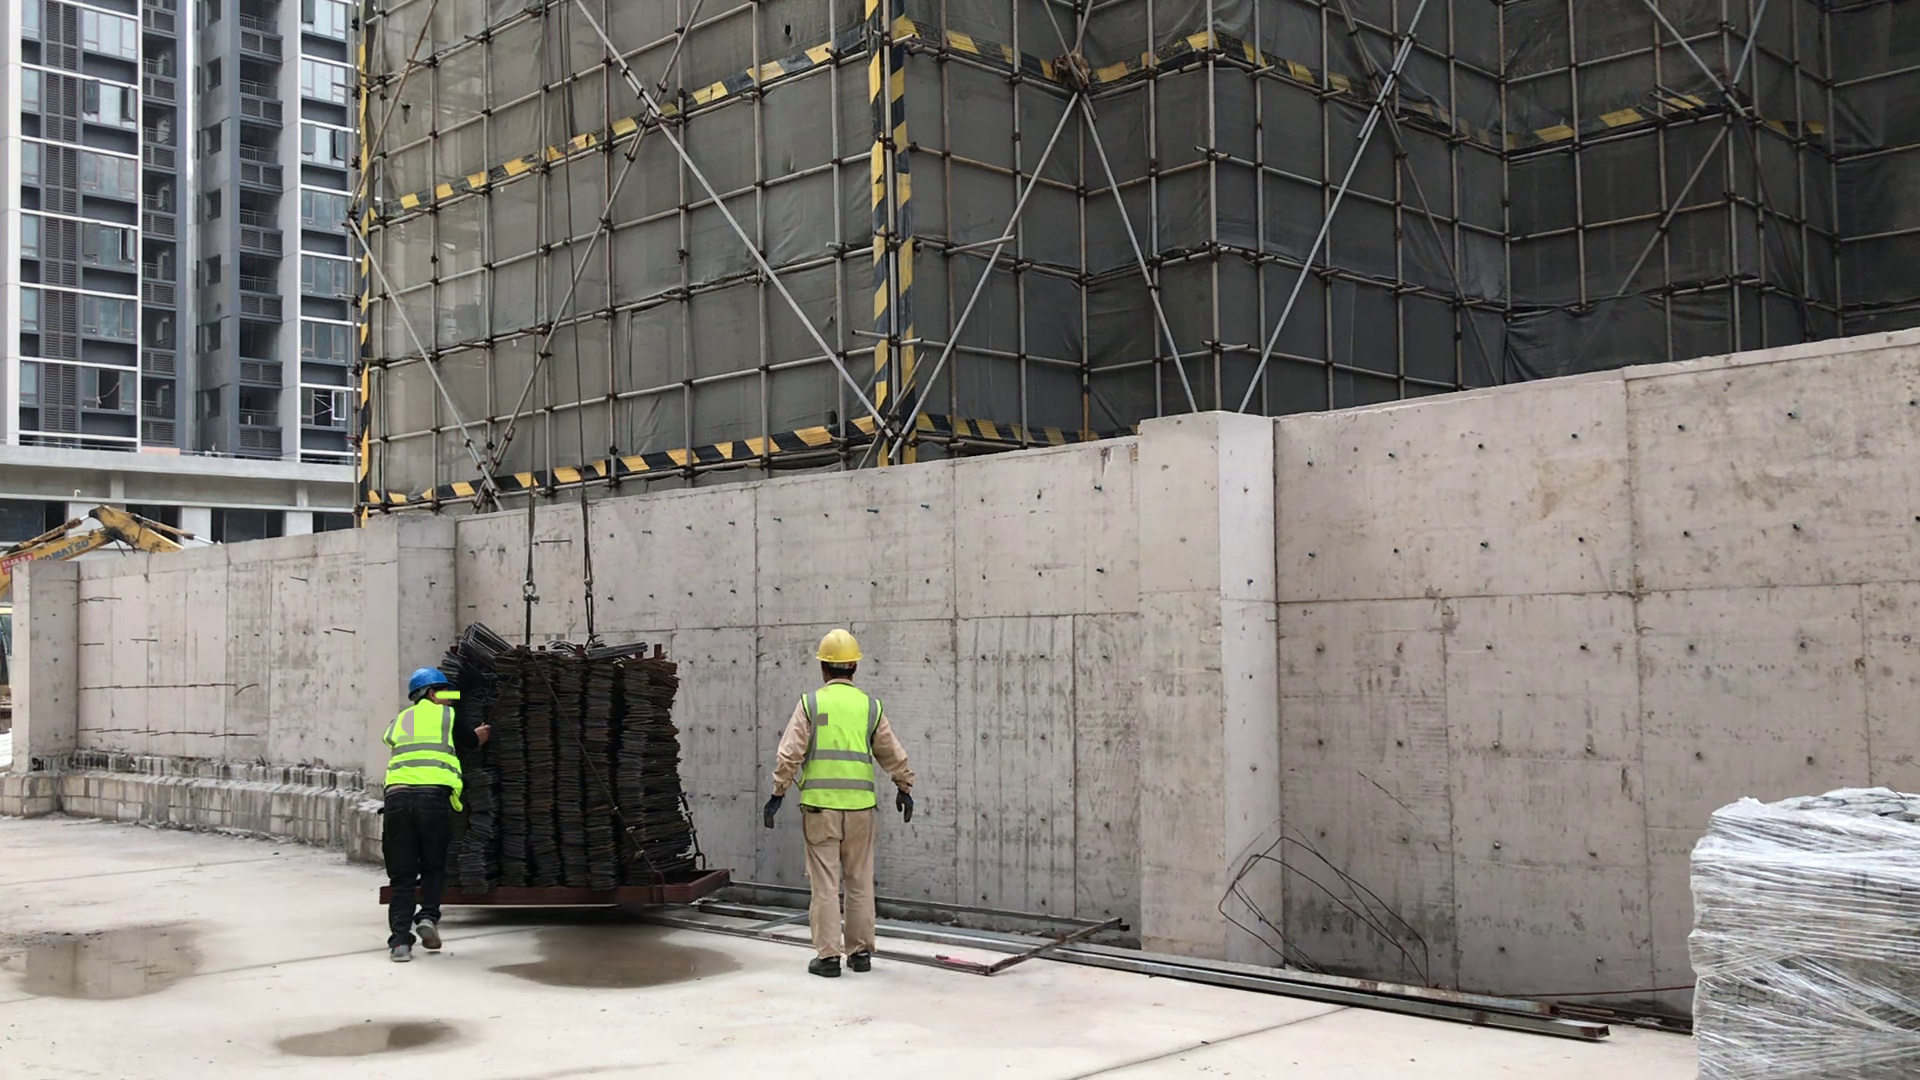helmet: (802, 625, 880, 682), (404, 667, 457, 706)
person: (766, 628, 914, 975), (374, 662, 475, 978)
vest: (789, 680, 888, 821), (384, 706, 468, 812)
